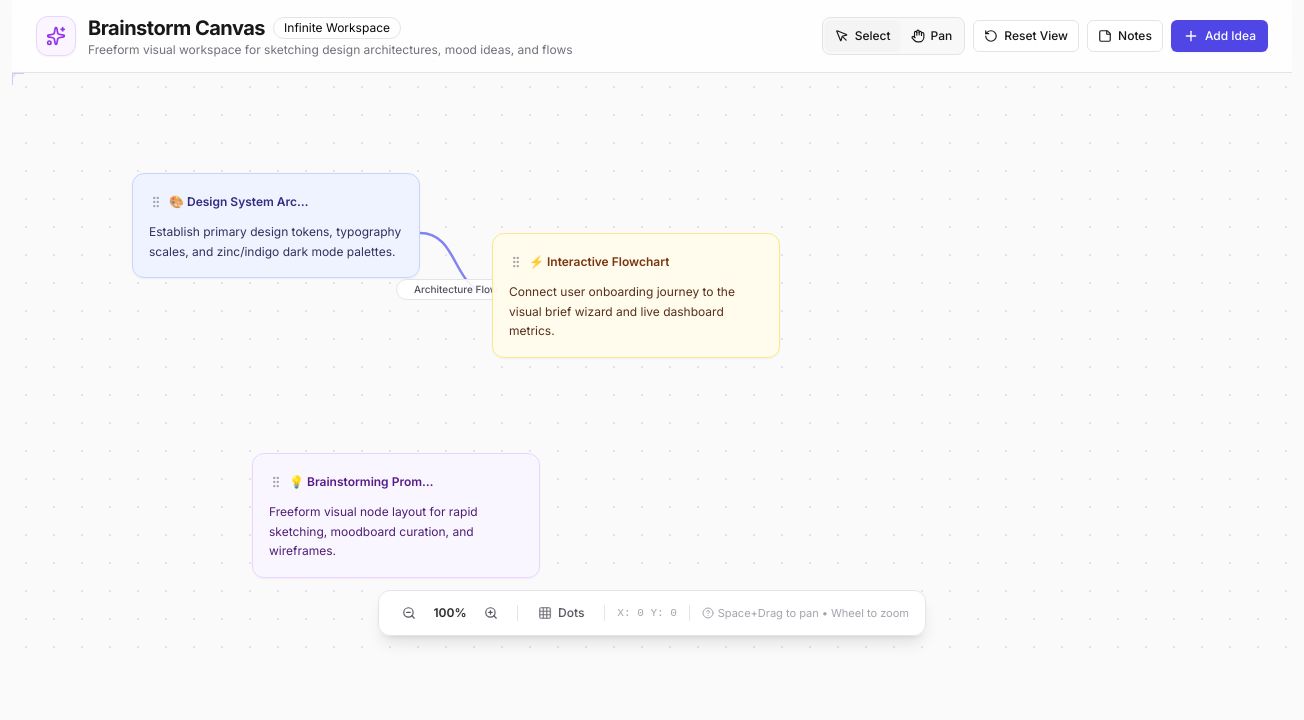
Canvas Page › resets pan coordinates and zoom level when Reset View is clicked
Click the button titled "Zoom in (+)".
click(491, 613)  # box [477,599,505,627]
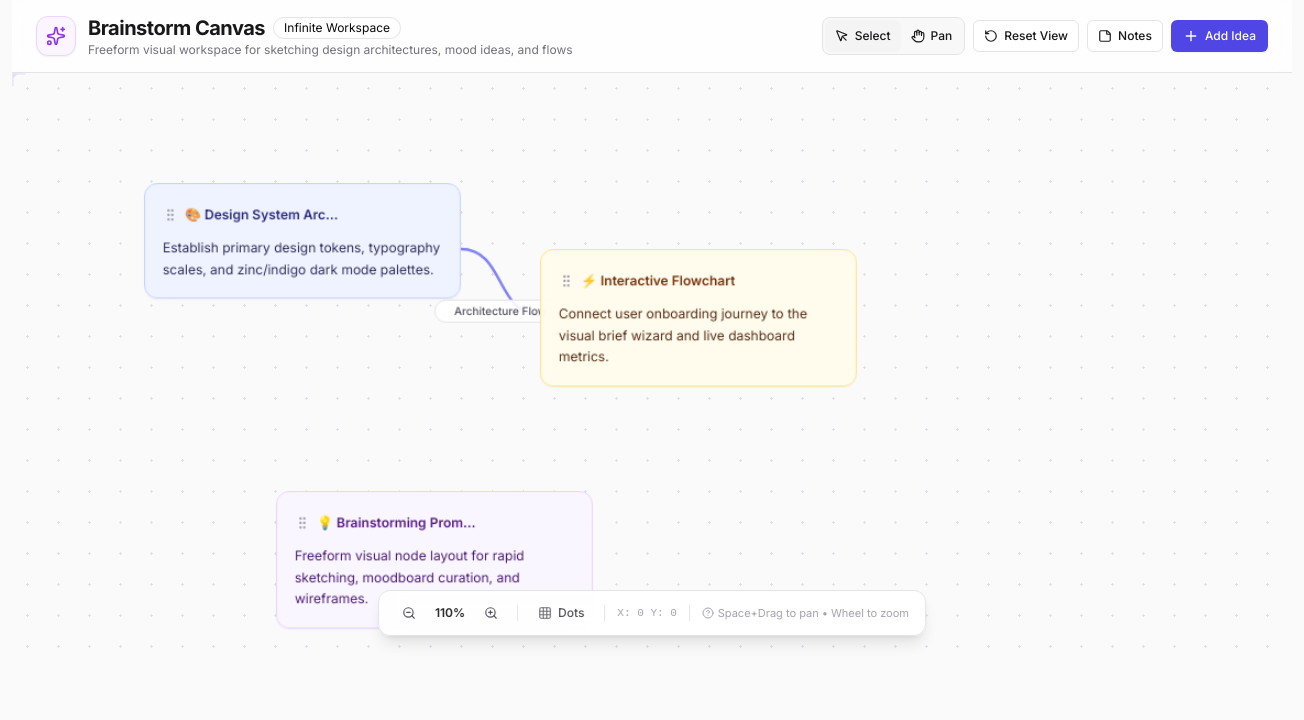
Now the button with test id "canvas-zoom-indicator" reads "110%", box [427,605,473,621]
Click the button "Reset View".
click(1026, 36)  # box [973,20,1079,52]
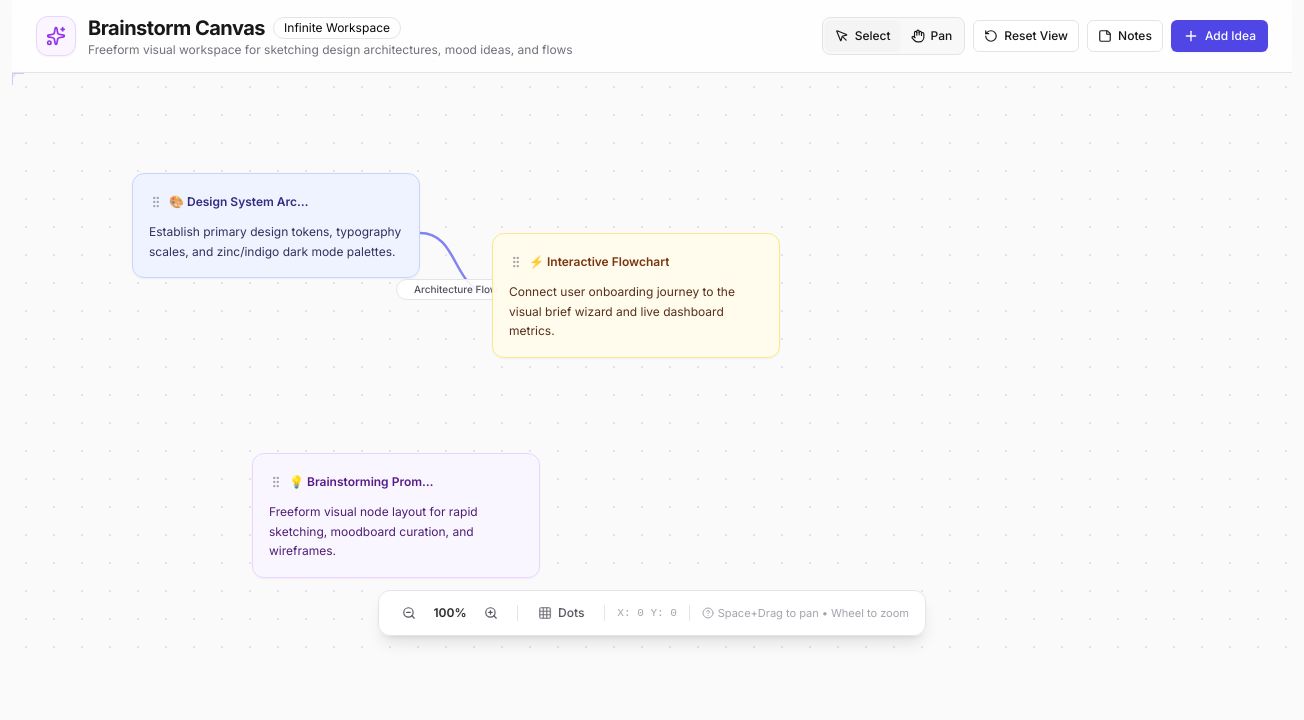
Expected: the text with test id "canvas-pan-coordinates" reads "X: 0 Y: 0", [617,605,677,621]
Now the button with test id "canvas-zoom-indicator" reads "100%", box [427,605,473,621]
